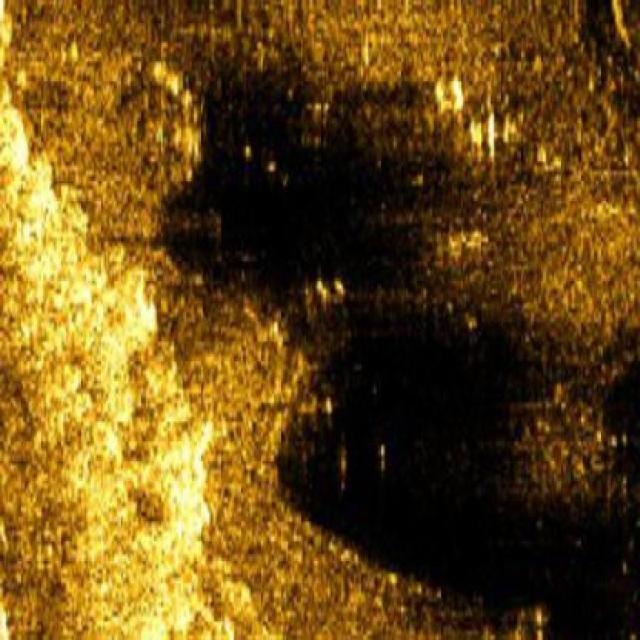bedrock group: (1, 8, 258, 640)
